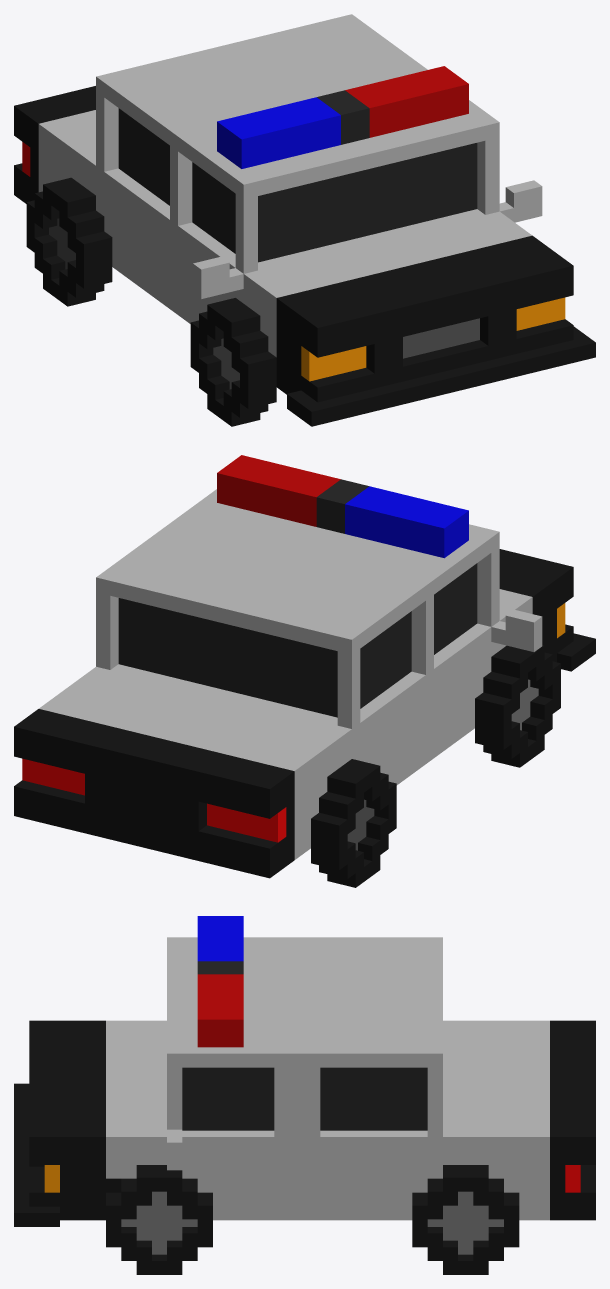
File: whitecarassets.vox.obj
The picture shows the model from 3 angles, top to bottom: view 1: azimuth 30°, elevation 25°; view 2: azimuth 150°, elevation 25°; view 3: azimuth 270°, elevation 25°; orthographic projection. The views are drawn at different scales.
Size of the model in its own units: 2.4 by 1.7 by 3.8.
Materials: 1 (1 with a texture image).
